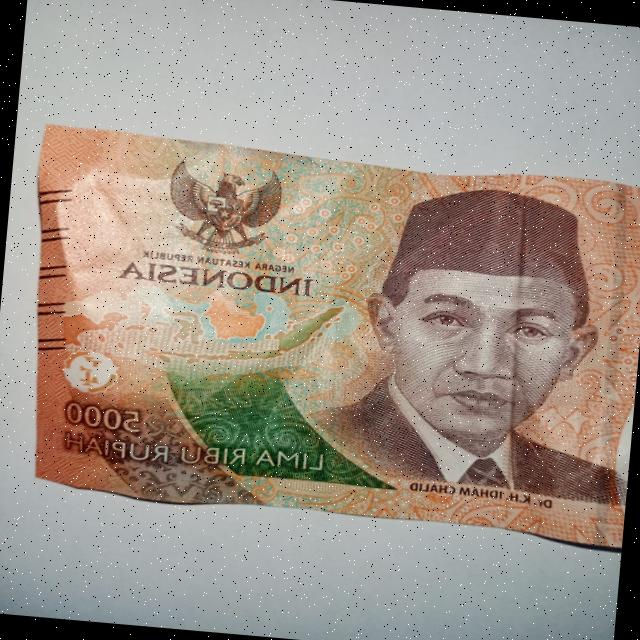5K: (0, 101, 640, 560)
